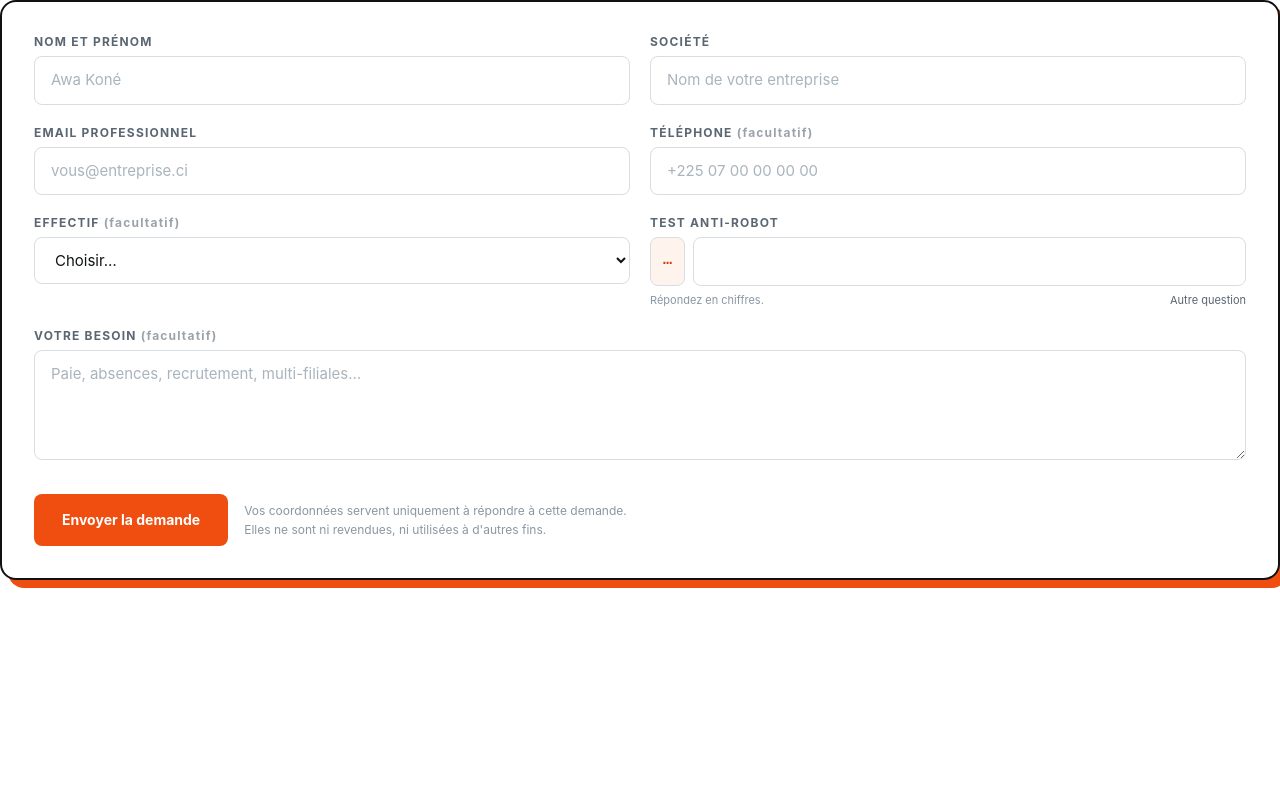
it: DemoForm › demande le défi anti-robot au premier contact, et l'affiche
Focus the field labelled "Nom et prénom". click: [332, 80]
box: [34, 56, 630, 104]
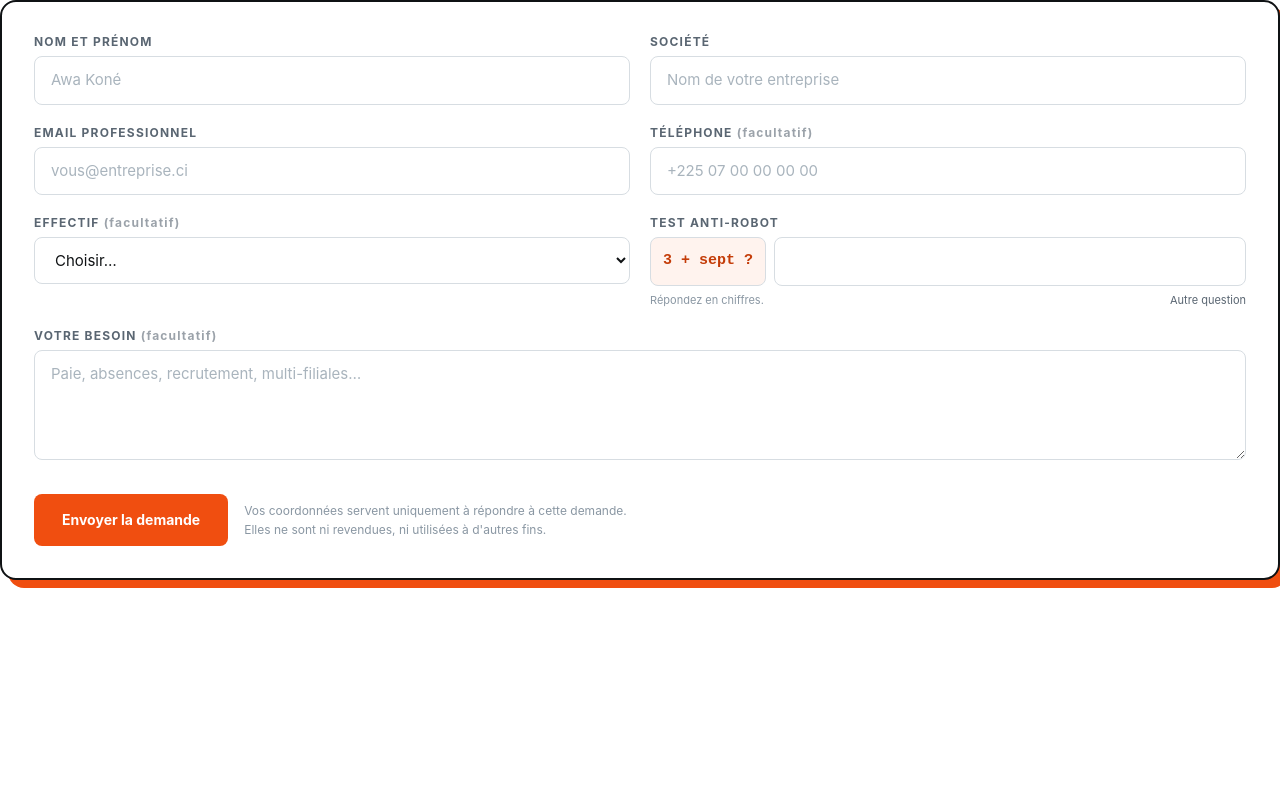
Result: the text "3 + sept ?" is shown at [650, 237, 766, 286]
